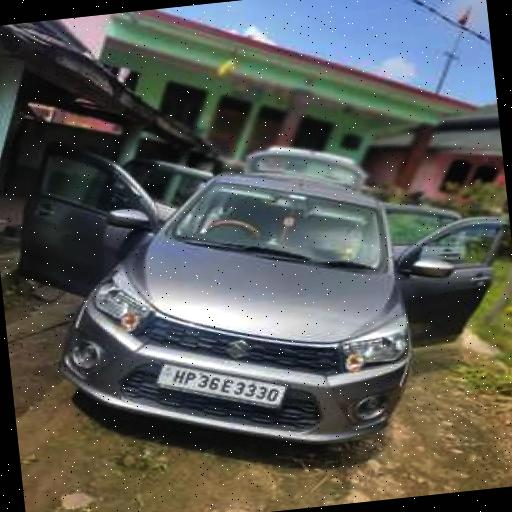license_plate`: (154, 349, 286, 420)
